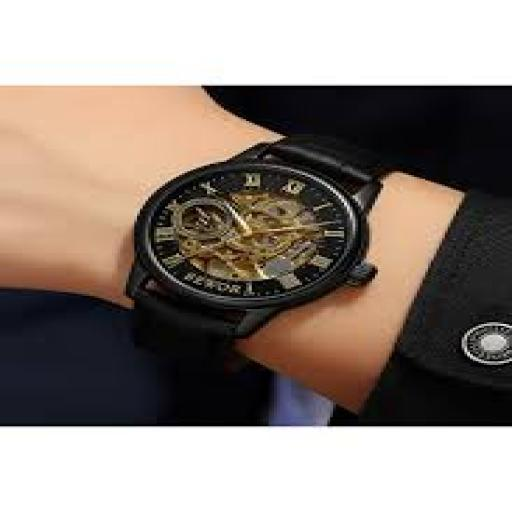KolSaati: (69, 99, 427, 348)
